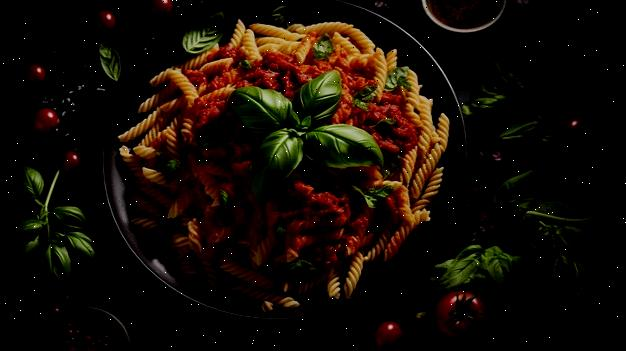pasta: (120, 21, 448, 310)
